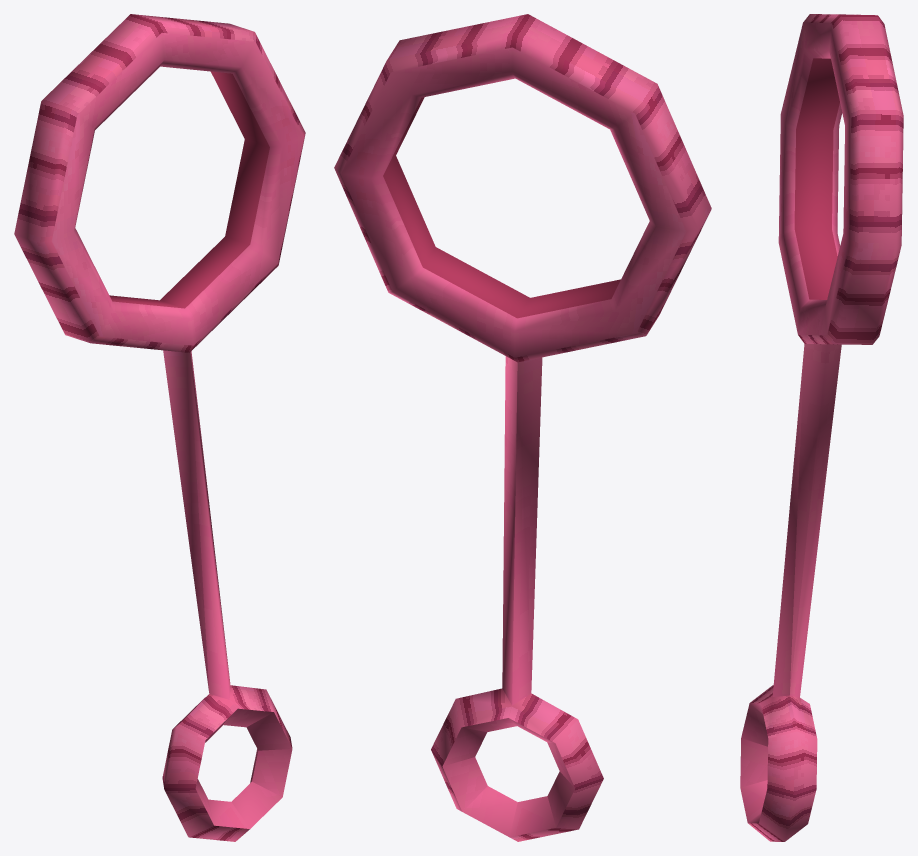
File: wand.obj
3 views of the same model, side by side, from view 1: azimuth 30°, elevation 25°; view 2: azimuth 150°, elevation 25°; view 3: azimuth 270°, elevation 25° (orthographic). The views are drawn at different scales.
Visible parts, largest first — view 1: mesh0052; view 2: mesh0052; view 3: mesh0052.
Boxes of the visible parts, x1,y1,x2,y2 form: mesh0052: [14, 14, 305, 841]; mesh0052: [334, 14, 711, 841]; mesh0052: [740, 14, 903, 841].
Bounding box in the file's own units: 1.01 × 2.53 × 0.4644.
1 material, 1 textured.
